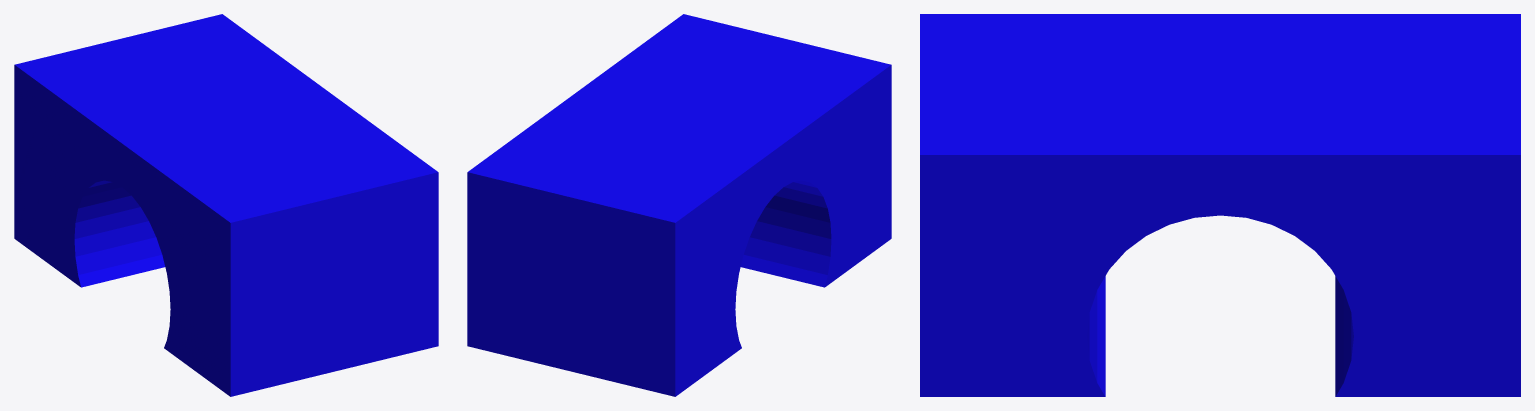
File: tunnel_narrow.fbx
The picture shows the model from 3 angles, left to right: view 1: azimuth 30°, elevation 25°; view 2: azimuth 150°, elevation 25°; view 3: azimuth 270°, elevation 25°; orthographic projection. The views are drawn at different scales.
Visible parts, largest first — view 1: Plane; view 2: Plane; view 3: Plane.
Boxes of the visible parts, x1,y1,x2,y2 form: Plane: (14, 14, 438, 396); Plane: (467, 14, 891, 396); Plane: (920, 14, 1520, 396).
Size of the model in its own units: 100 by 80 by 180.
